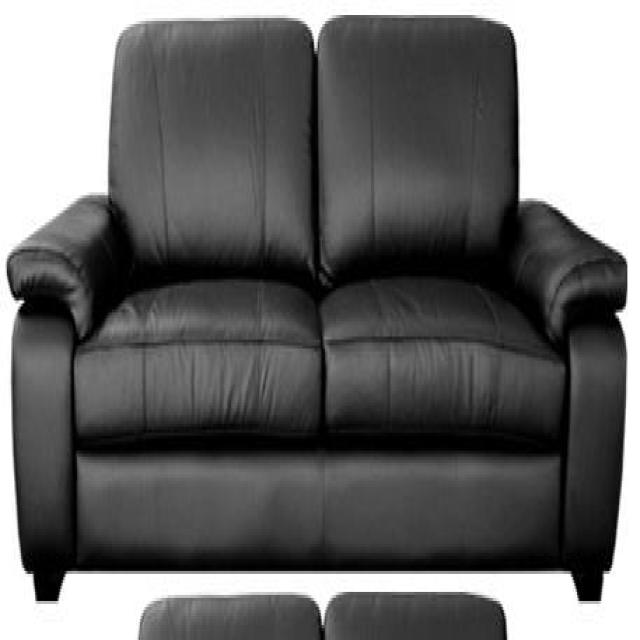sofa: (12, 10, 628, 614)
